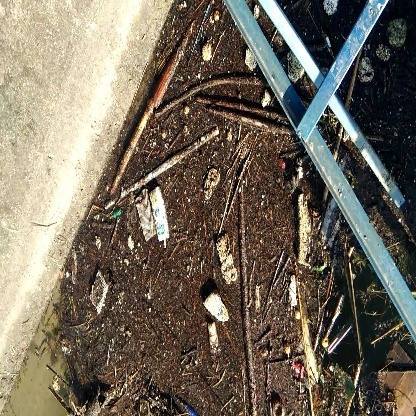branch: (235, 189, 272, 409)
